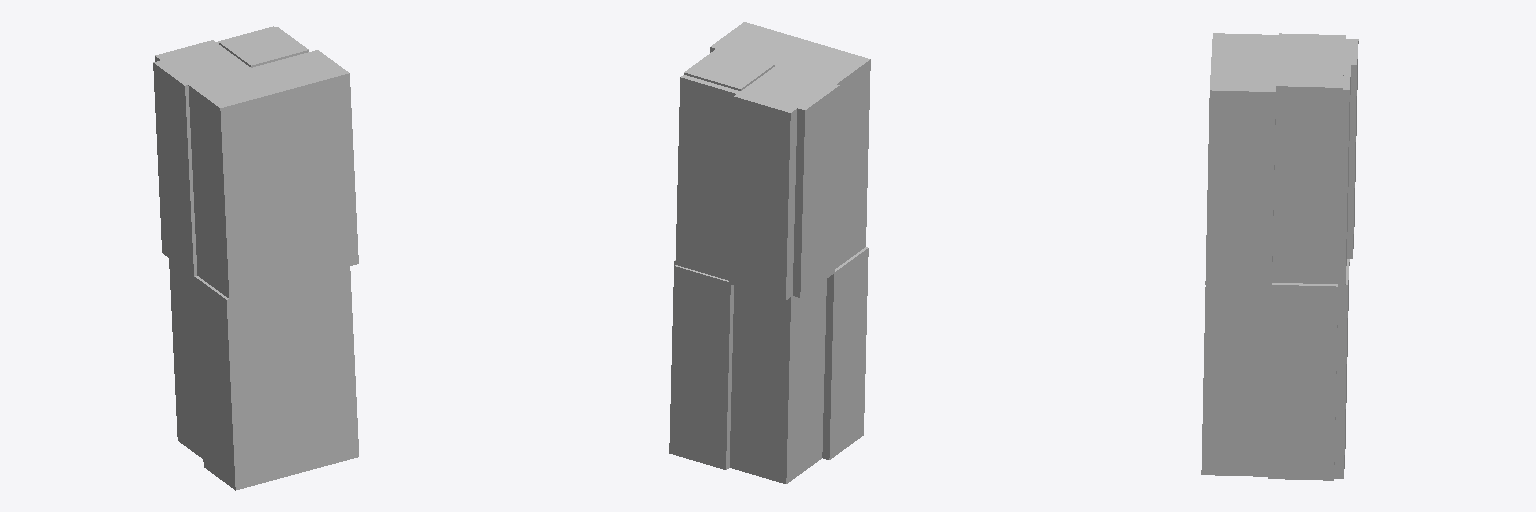
The model's file is pillar_5.obj.
3 renders of one model, left to right at view 1: azimuth 30°, elevation 25°; view 2: azimuth 150°, elevation 25°; view 3: azimuth 270°, elevation 25°, orthographic.
Parts seen in each view (by area): view 1: Cube.002; view 2: Cube.002; view 3: Cube.002.
Part boxes in pixels (x1,y1,x2,y2): Cube.002: (153,26,358,490); Cube.002: (669,22,870,483); Cube.002: (1201,33,1358,480).
Size of the model in its own units: 0.804 by 2.1 by 0.7676.